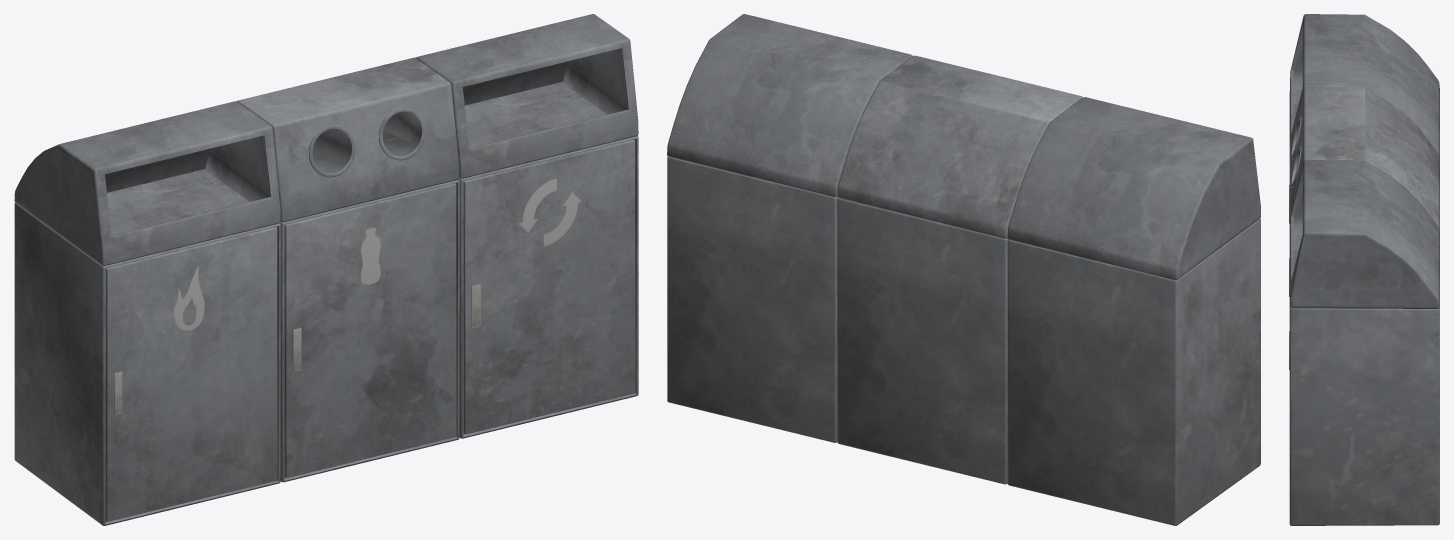
File: TrashCans.fbx
3 renders of one model, left to right at view 1: azimuth 30°, elevation 25°; view 2: azimuth 150°, elevation 25°; view 3: azimuth 270°, elevation 25°, orthographic. The views are drawn at different scales.
Visible parts, largest first — view 1: TrashCans; view 2: TrashCans; view 3: TrashCans.
Part boxes in pixels (box(x1,y1,x2,y2)): TrashCans: box(14, 14, 638, 525); TrashCans: box(667, 14, 1260, 525); TrashCans: box(1289, 14, 1439, 525).
Bounding box in the file's own units: 1.8 × 1.13 × 0.5236.
